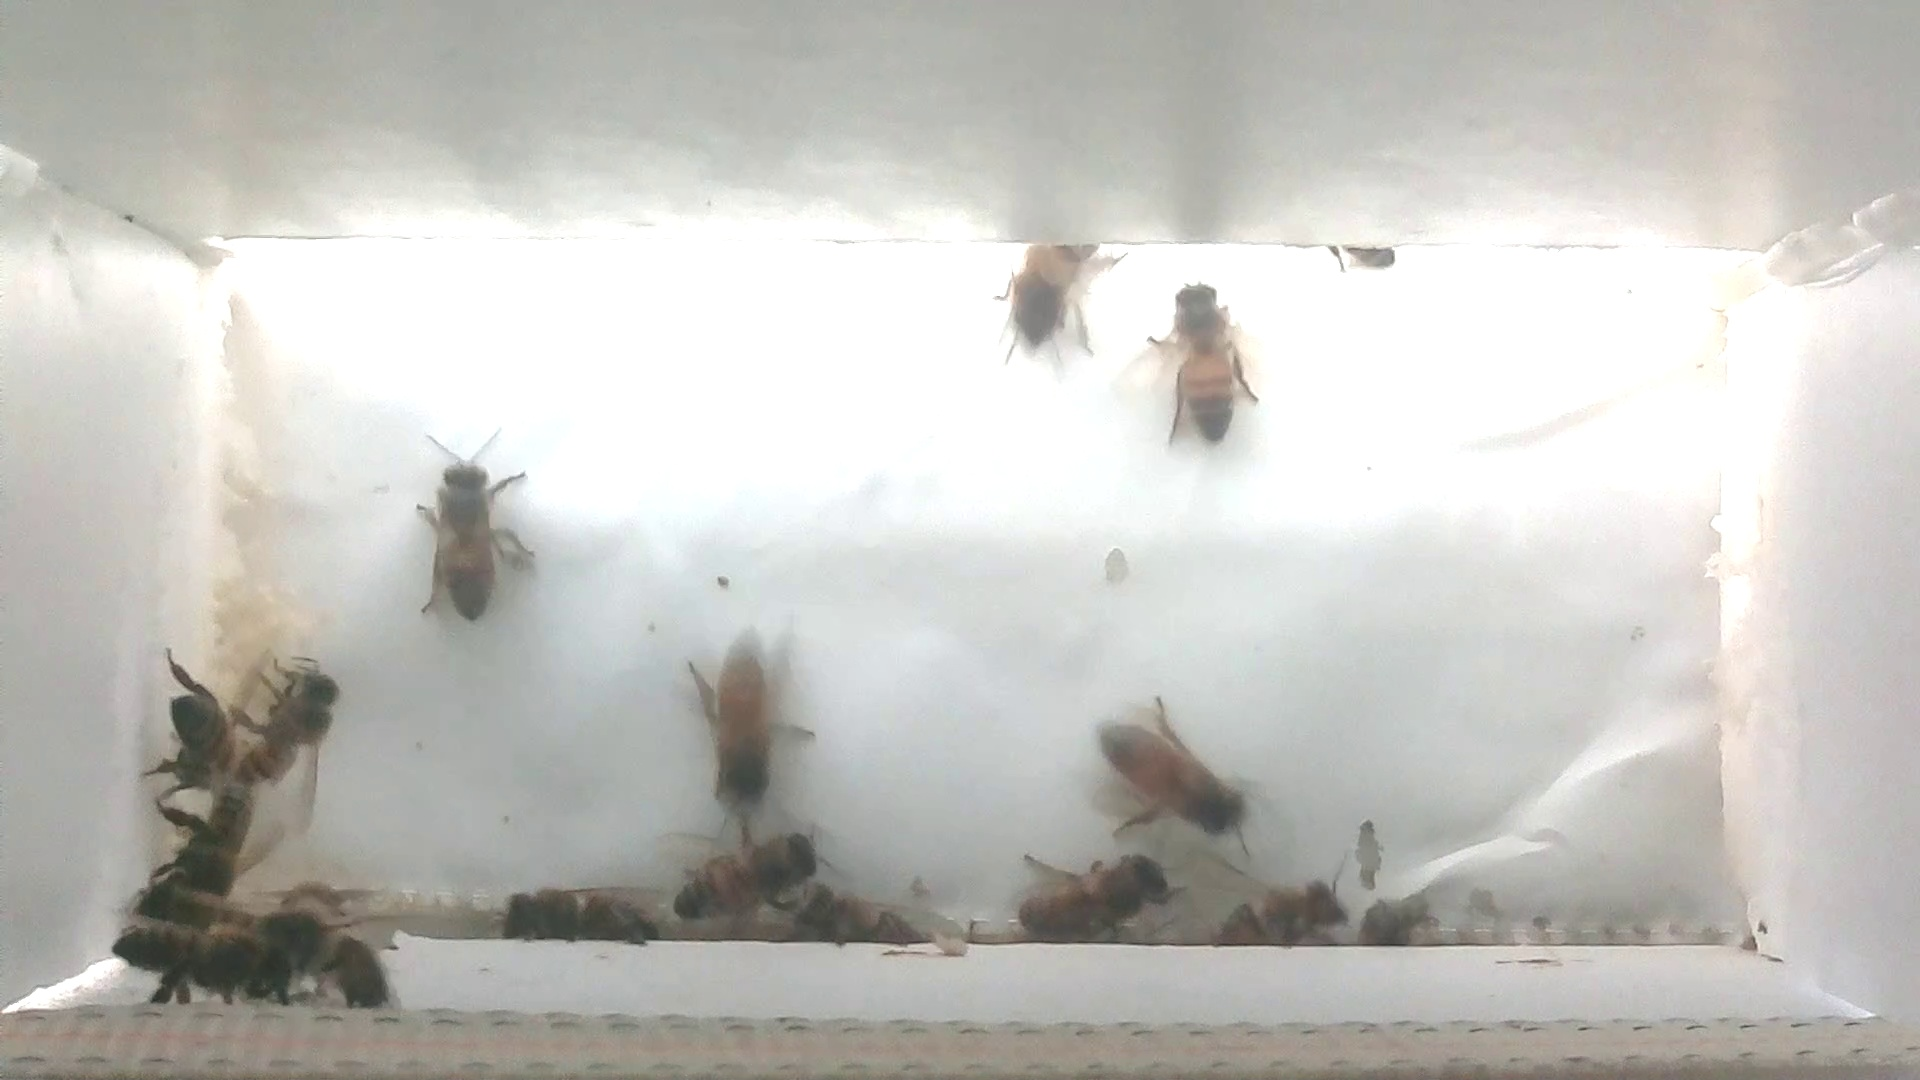bee: (1081, 674, 1265, 862), (398, 415, 564, 622), (673, 622, 810, 822), (963, 200, 1120, 368), (214, 640, 353, 810), (233, 898, 409, 1029), (1145, 272, 1261, 454), (993, 833, 1180, 940), (129, 636, 247, 804), (654, 819, 829, 931), (108, 909, 284, 1015), (1180, 853, 1346, 955), (124, 793, 249, 924), (793, 880, 964, 960), (491, 878, 669, 953)
